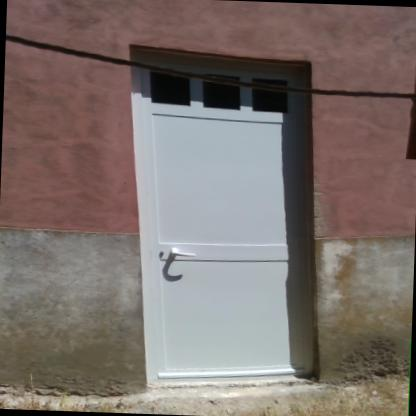closed: (117, 47, 328, 404)
